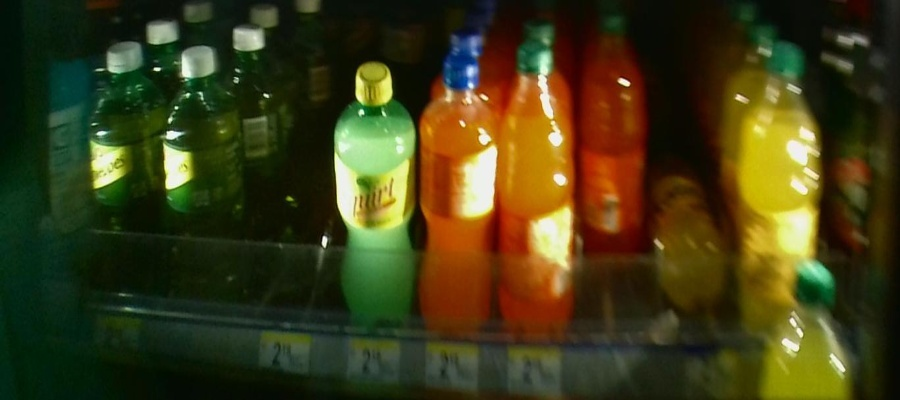bottle: (330, 56, 418, 328), (500, 36, 578, 339), (422, 51, 499, 332), (164, 43, 248, 297), (736, 48, 808, 337), (84, 30, 161, 290), (583, 17, 642, 261), (657, 200, 723, 325)
